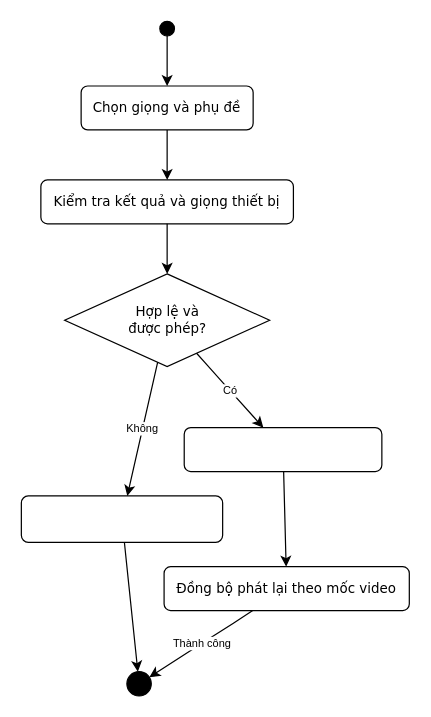
This 431x717 diagram has some shape labels left out. The shapes that lost their labels are listed below. From the top down, each one's centre as x and y in pixels, then its label:
At (282,449): "Áp dụng tốc độ và phụ đề".
At (121,518): "Thông báo lỗi Không báo lưu thành công".
